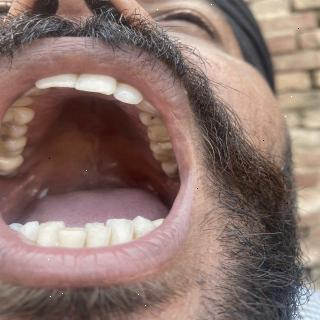LLCI_healthy: (85, 223, 112, 246)
LLLI_healthy: (107, 219, 134, 244)
LRCI_healthy: (58, 229, 87, 248)
LRLI_healthy: (38, 221, 64, 246)
UL1BC_sdecay: (139, 113, 164, 126)
UL1M_healthy: (149, 142, 175, 162)
UL2BC_healthy: (147, 125, 169, 141)
UL2M_healthy: (161, 162, 178, 178)
ULCI_healthy: (76, 72, 117, 96)
ULLI_healthy: (114, 82, 143, 104)
UR1BC_healthy: (3, 108, 34, 125)
UR2BC_sdecay: (1, 125, 28, 151)
URCI_healthy: (35, 73, 77, 88)
